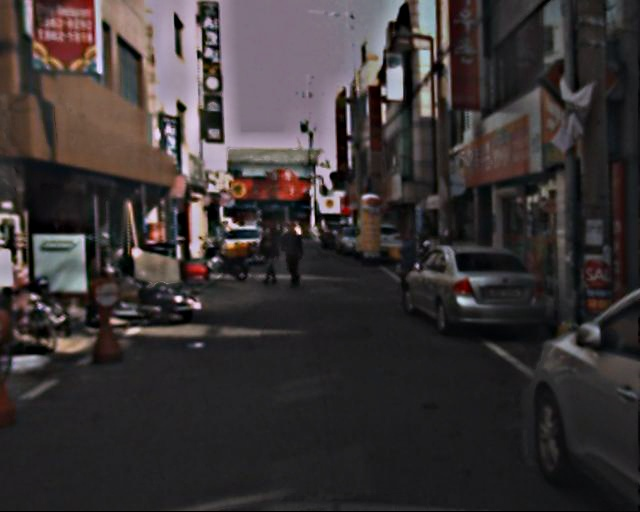person: (277, 215, 306, 292), (392, 223, 419, 303), (257, 218, 282, 285)
